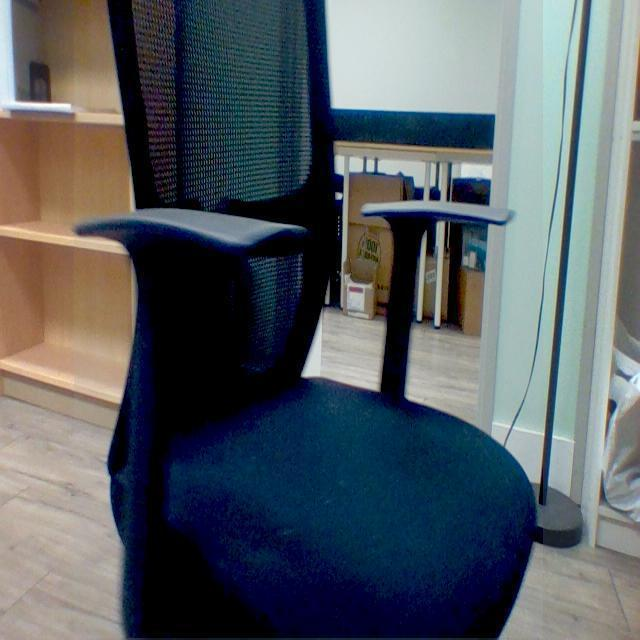chair: (75, 0, 521, 640)
